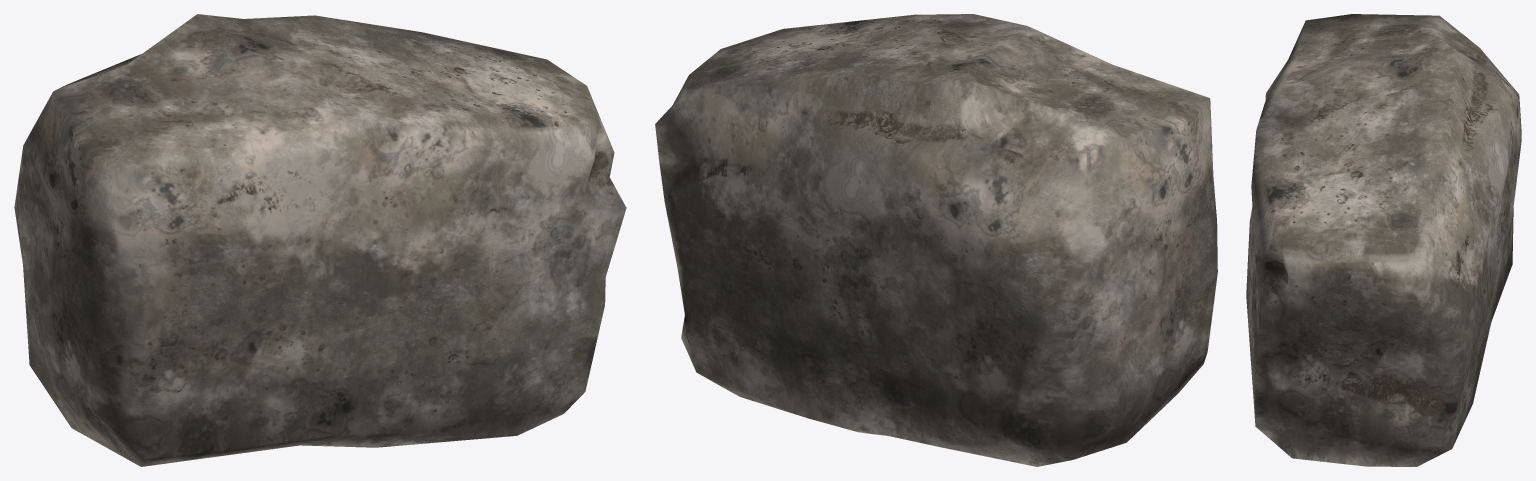
The model's file is Rock_2.fbx.
3 renders of one model, left to right at view 1: azimuth 30°, elevation 25°; view 2: azimuth 150°, elevation 25°; view 3: azimuth 270°, elevation 25°, orthographic. The views are drawn at different scales.
Visible parts, largest first — view 1: Rock_2; view 2: Rock_2; view 3: Rock_2.
Part boxes in pixels (box(x1,y1,x2,y2)): Rock_2: box(14, 14, 626, 466); Rock_2: box(655, 14, 1217, 466); Rock_2: box(1246, 14, 1521, 466).
Size of the model in its own units: 835 by 616 by 484.
Materials: 1 (1 with a texture image).
